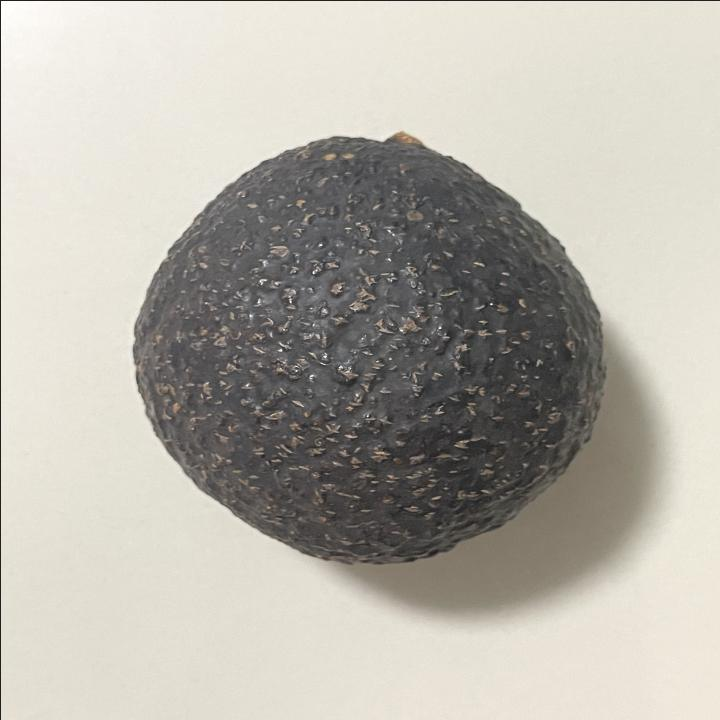Level3: (118, 123, 618, 573)
